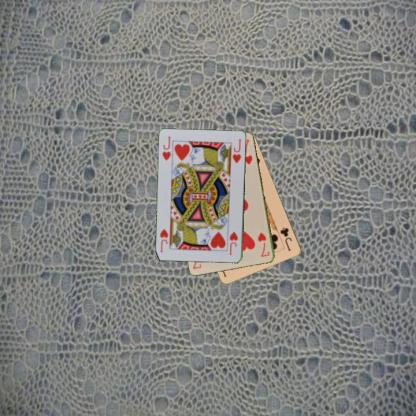7h: (255, 230, 271, 258)
Jc: (278, 225, 293, 252)
Jh: (160, 134, 172, 162), (227, 229, 239, 256)
